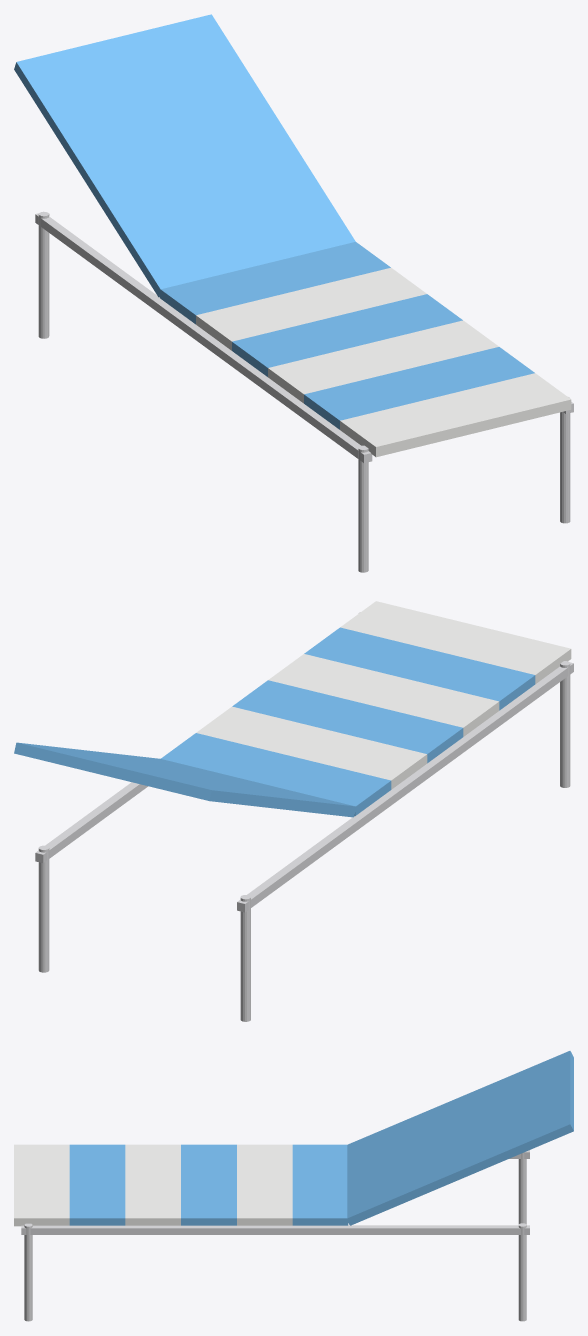
Rendered from sunbed.glb.
3 renders of one model, top to bottom at view 1: azimuth 30°, elevation 25°; view 2: azimuth 150°, elevation 25°; view 3: azimuth 270°, elevation 25°, orthographic. The views are drawn at different scales.
Parts seen in each view (by area): view 1: sunbed; view 2: sunbed; view 3: sunbed.
Part boxes in pixels (<box>): sunbed: <box>14,14,573,572</box>; sunbed: <box>14,601,573,1021</box>; sunbed: <box>14,1051,573,1321</box>.
Size of the model in its own units: 0.648 by 0.7378 by 1.93.
